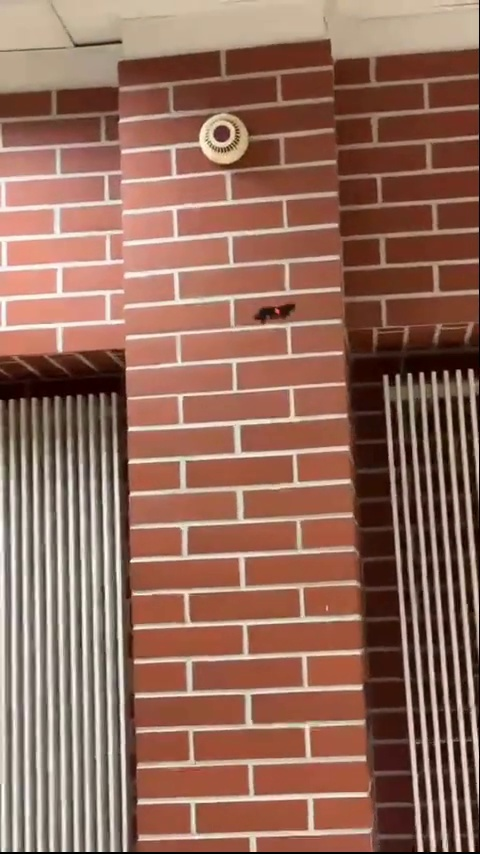drone: (253, 302, 305, 326)
